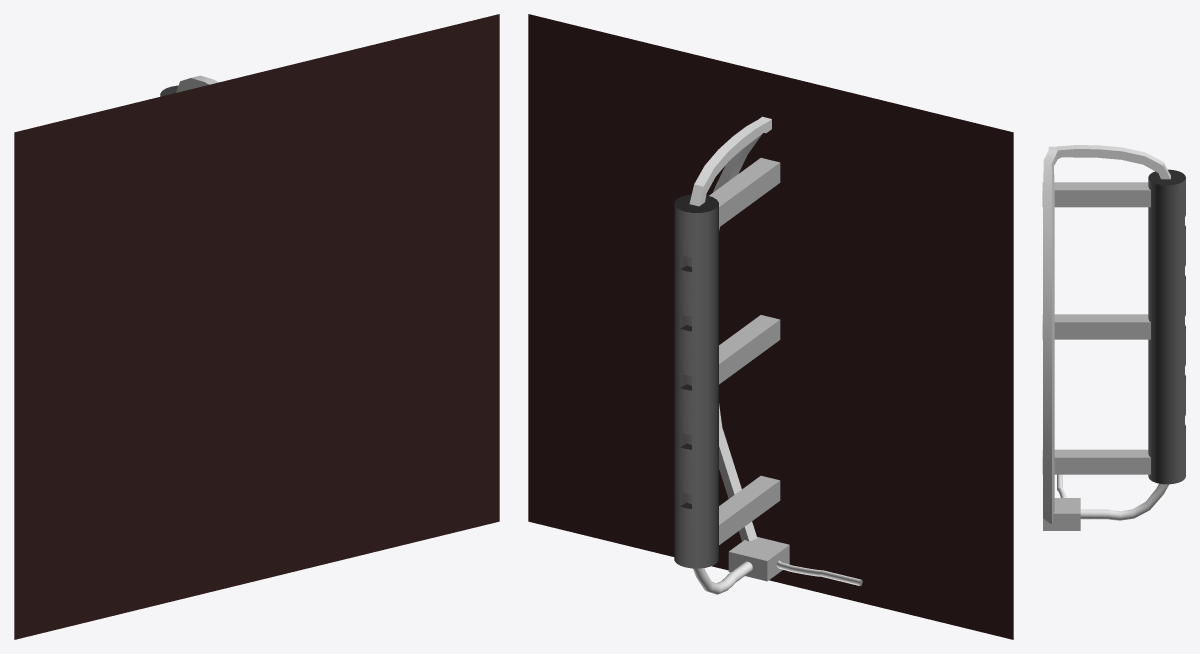
File: tech120-_hydroponics-_mockup.fbx
3 views of the same model, side by side, from view 1: azimuth 30°, elevation 25°; view 2: azimuth 150°, elevation 25°; view 3: azimuth 270°, elevation 25° (orthographic). The views are drawn at different scales.
Parts seen in each view (by area): view 1: imagetostl_mesh8; view 2: imagetostl_mesh8, imagetostl_mesh0, imagetostl_mesh7, imagetostl_mesh5, imagetostl_mesh6, imagetostl_mesh4, imagetostl_mesh2, imagetostl_mesh1; view 3: imagetostl_mesh0, imagetostl_mesh7, imagetostl_mesh5, imagetostl_mesh4, imagetostl_mesh6, imagetostl_mesh2, imagetostl_mesh1.
Boxes of the visible parts, x1,y1,x2,y2 form: imagetostl_mesh8: (14, 14, 499, 639); imagetostl_mesh8: (528, 14, 1013, 639); imagetostl_mesh0: (674, 194, 718, 568); imagetostl_mesh7: (689, 116, 771, 541); imagetostl_mesh5: (709, 158, 780, 227); imagetostl_mesh6: (719, 475, 780, 544); imagetostl_mesh4: (719, 315, 780, 384); imagetostl_mesh2: (728, 537, 789, 581); imagetostl_mesh1: (693, 561, 752, 594); imagetostl_mesh0: (1148, 169, 1185, 484); imagetostl_mesh7: (1043, 145, 1170, 523); imagetostl_mesh5: (1042, 182, 1150, 207); imagetostl_mesh4: (1042, 314, 1150, 339); imagetostl_mesh6: (1042, 449, 1150, 474); imagetostl_mesh2: (1043, 498, 1080, 530); imagetostl_mesh1: (1080, 483, 1168, 520).
Size of the model in its own units: 2500 by 2500 by 764.
